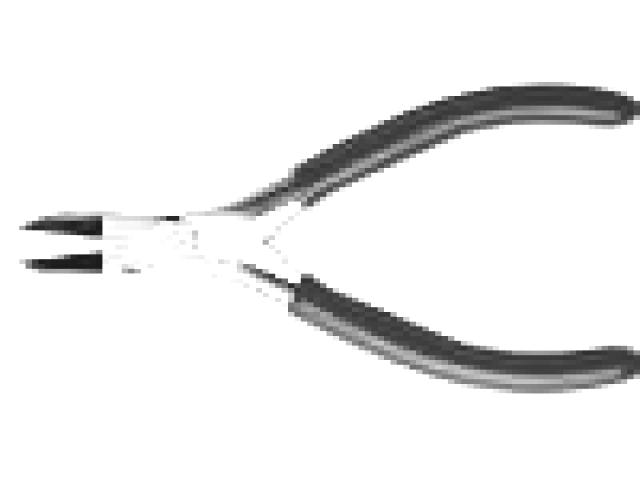Cutting pliers: (10, 83, 640, 395)
